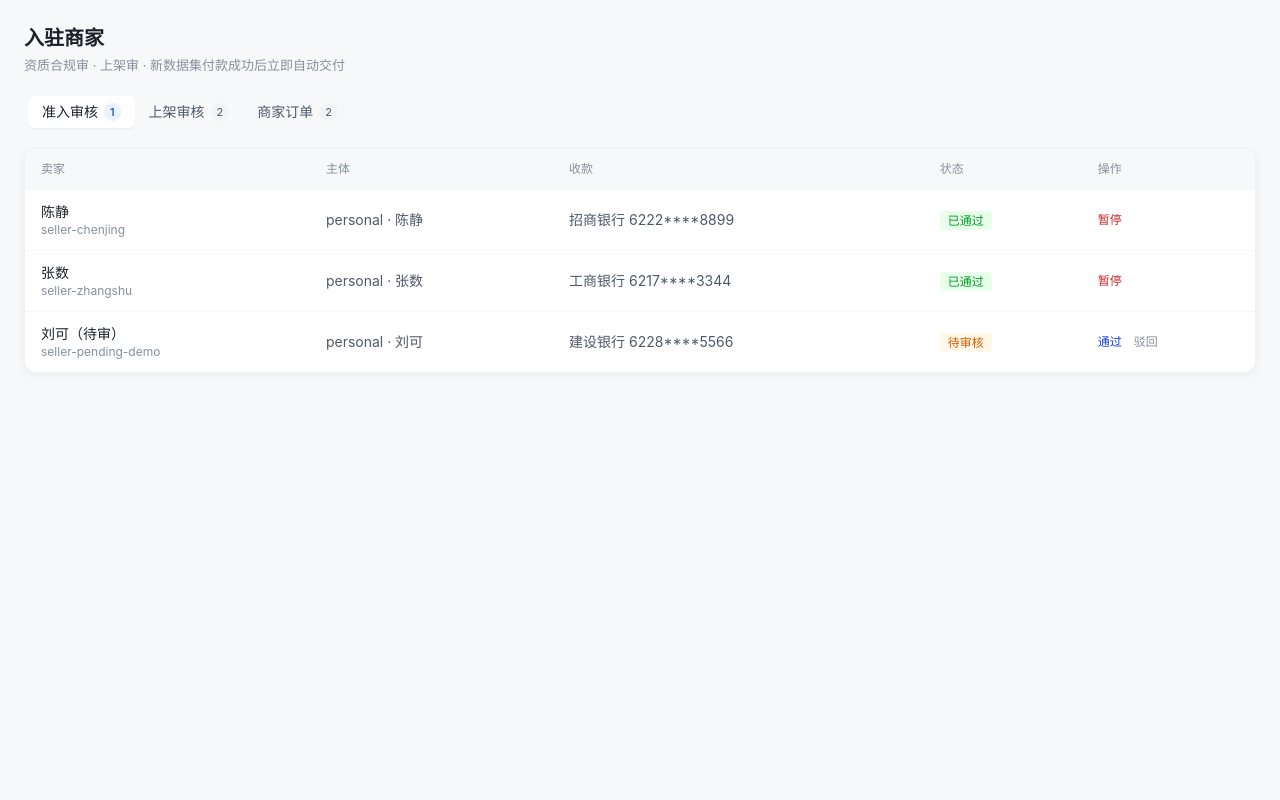
Scenario: SellerMarketAdmin listing content › renders the three review examples without adding them to the normal store
Click the button with test id "seller-admin-tab-listing".
click(189, 112)  # box [135,96,243,128]
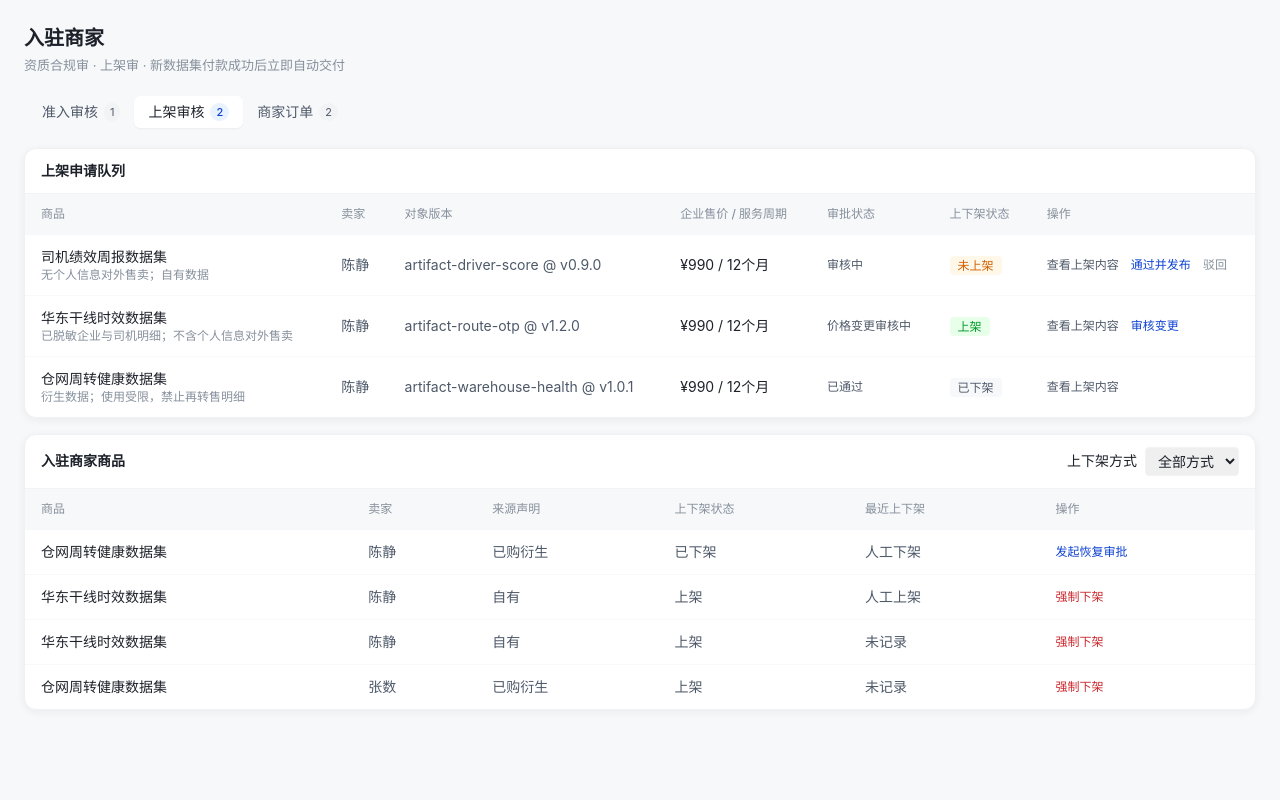
Result: the cell with test id "listing-review-listing-pending-driver" reads "审核中" at [827,256,863,272]
Result: the cell with test id "listing-state-listing-pending-driver" reads "未上架" at [958,258,994,272]
Result: the cell with test id "listing-review-listing-sample-price-pending" reads "价格变更审核中" at [827,318,911,332]
